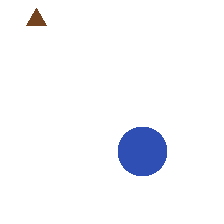circle: (118, 127, 166, 175)
triangle: (26, 8, 46, 25)
